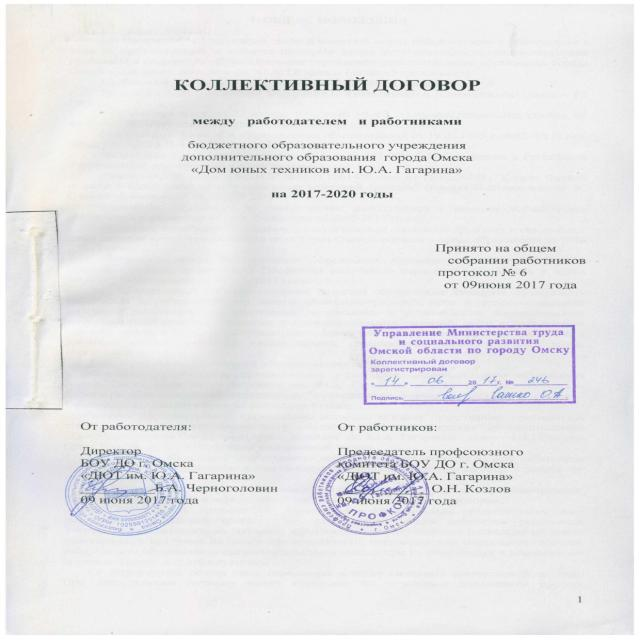stamps: (351, 318, 596, 418), (264, 435, 467, 535), (69, 444, 191, 533)
